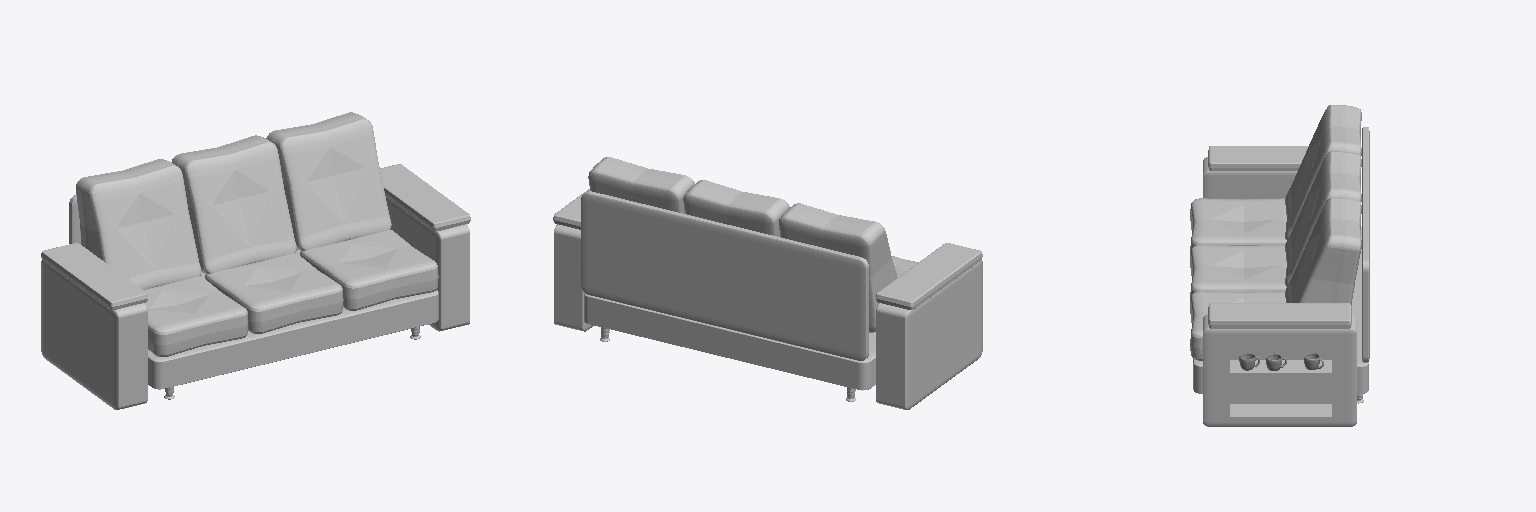
File: sofa2.obj
3 views of the same model, side by side, from view 1: azimuth 30°, elevation 25°; view 2: azimuth 150°, elevation 25°; view 3: azimuth 270°, elevation 25° (orthographic).
Visible parts, largest first — view 1: Cube.004, Cube.008_Cube.009, Cube.001, Cube.003, Cube.002, Cube, Cube.005, Cube.007_Cube.008, Cube.006_Cube.007; view 2: Cube.013_Cube.015, Cube.004, Cube.008_Cube.009, Cube.001, Cube.007_Cube.008, Cube.005, Cube.006_Cube.007; view 3: Cube.005, Cube.004, Cube, Cube.002, Cube.006_Cube.007, Cube.008_Cube.009, Cube.007_Cube.008, Cube.013_Cube.015, Cube.003, Cube.001.
Part boxes in pixels (x1,y1,x2,y2): Cube.004: (76, 112, 391, 289); Cube.008_Cube.009: (41, 260, 147, 409); Cube.001: (148, 250, 438, 389); Cube.003: (300, 230, 438, 310); Cube.002: (205, 253, 343, 333); Cube: (144, 276, 247, 356); Cube.005: (386, 197, 469, 331); Cube.007_Cube.008: (41, 243, 147, 309); Cube.006_Cube.007: (380, 164, 470, 231); Cube.013_Cube.015: (581, 191, 868, 360); Cube.004: (588, 157, 897, 332); Cube.008_Cube.009: (876, 260, 982, 409); Cube.001: (584, 293, 875, 390); Cube.007_Cube.008: (876, 243, 982, 309); Cube.005: (554, 224, 593, 331); Cube.006_Cube.007: (553, 189, 589, 229); Cube.005: (1203, 314, 1356, 426); Cube.004: (1285, 105, 1361, 305); Cube: (1190, 198, 1286, 255); Cube.002: (1190, 245, 1286, 301); Cube.006_Cube.007: (1208, 303, 1351, 328); Cube.008_Cube.009: (1203, 157, 1297, 198); Cube.007_Cube.008: (1208, 146, 1308, 170); Cube.013_Cube.015: (1362, 127, 1369, 362); Cube.003: (1190, 291, 1285, 360); Cube.001: (1193, 227, 1368, 393).
Size of the model in its own units: 5.72 by 2.6 by 2.47.